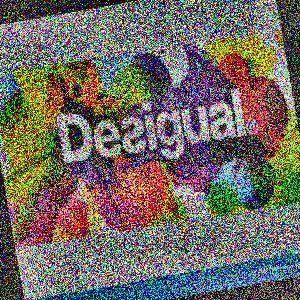desigual: (240, 37, 289, 111)
